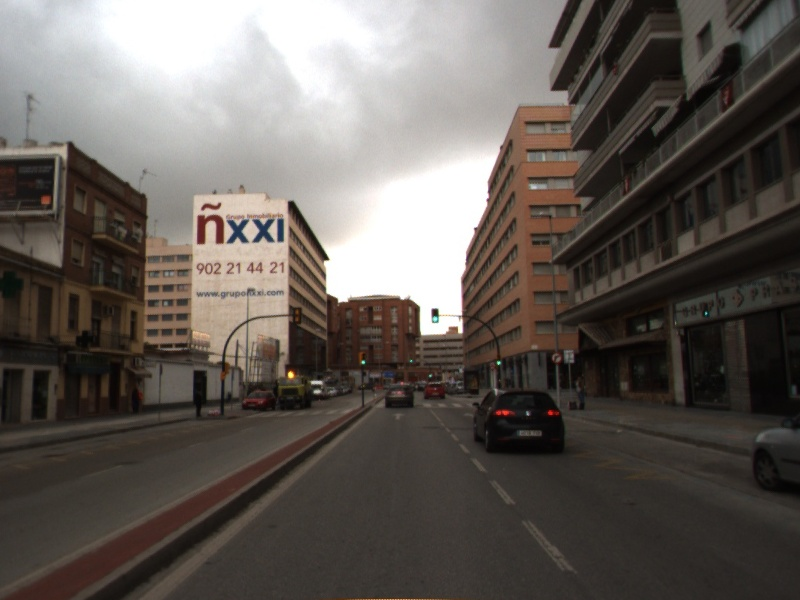STRAIGHT: (390, 411, 408, 422)
